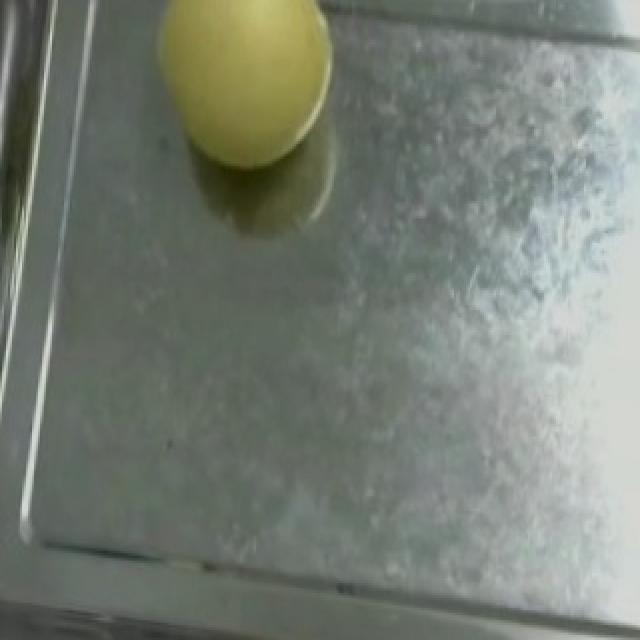Fruit: (132, 0, 350, 184)
